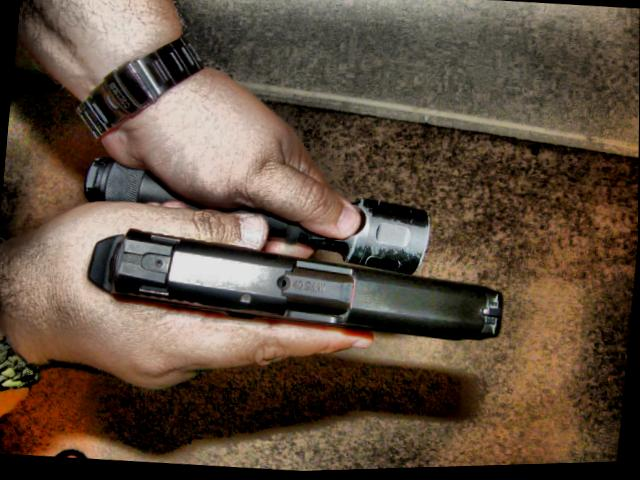pistol: (82, 216, 509, 361)
